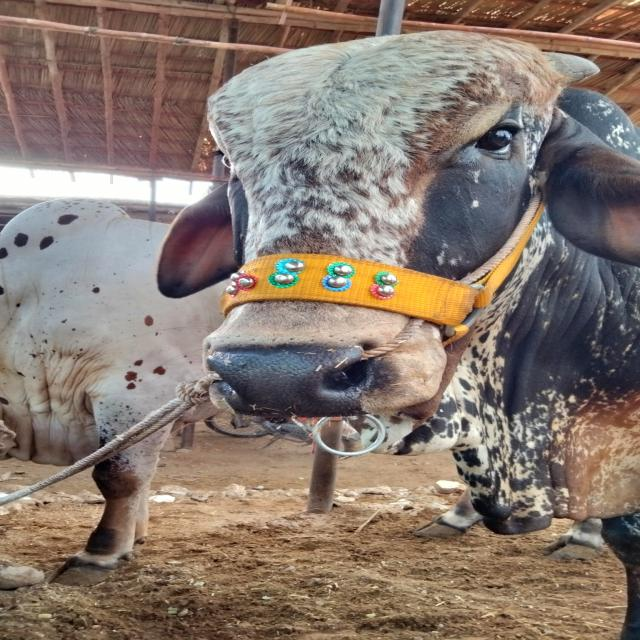muzzles: (196, 330, 387, 421)
